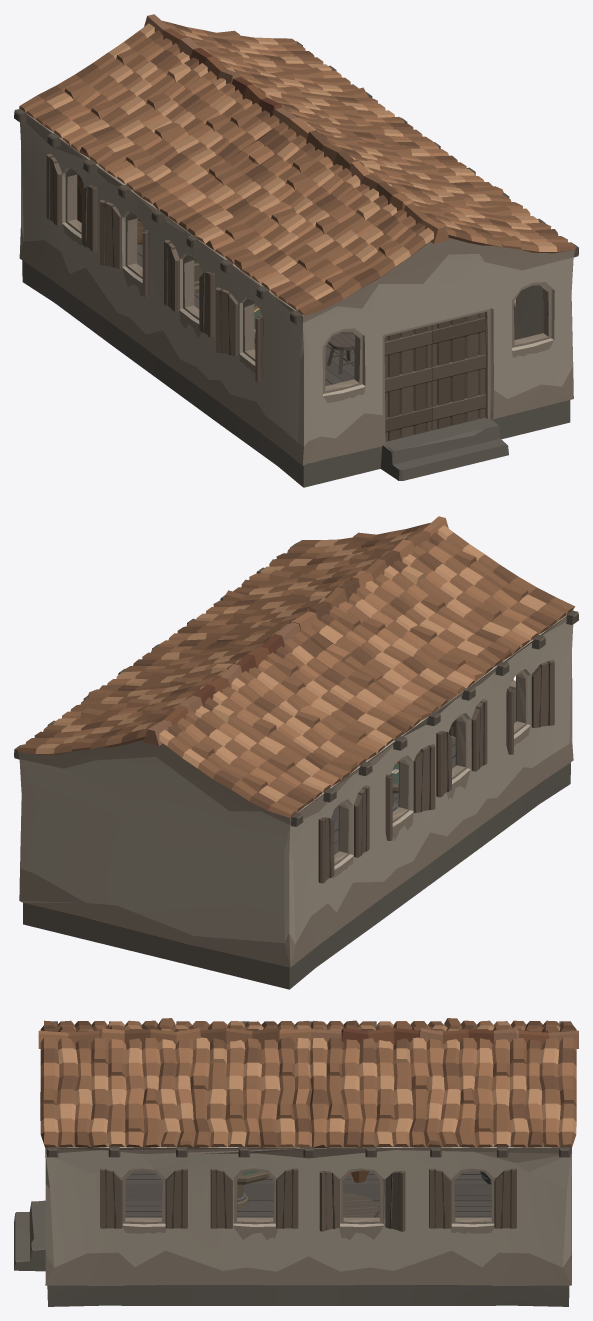
The model's file is Saloon.glb.
The picture shows the model from 3 angles, top to bottom: view 1: azimuth 30°, elevation 25°; view 2: azimuth 150°, elevation 25°; view 3: azimuth 270°, elevation 25°; orthographic projection. The views are drawn at different scales.
Parts seen in each view (by area): view 1: Saloon, SM_Bld_Mexican_01_Door_01, SM_Bld_Mexican_01_Door_02, SM_Prop_Stool_Round_01; view 2: Saloon; view 3: Saloon, SM_Prop_Table_01, SM_Prop_PokerTable_01.
Part boxes in pixels (box(x1,y1,x2,y2)): Saloon: box(14, 14, 578, 487); SM_Bld_Mexican_01_Door_01: box(431, 312, 485, 430); SM_Bld_Mexican_01_Door_02: box(384, 325, 432, 441); SM_Prop_Stool_Round_01: box(326, 334, 354, 374); Saloon: box(14, 516, 578, 989); Saloon: box(14, 1018, 578, 1306); SM_Prop_Table_01: box(343, 1192, 378, 1217); SM_Prop_PokerTable_01: box(237, 1170, 268, 1208).
Bounding box in the file's own units: 6.07 × 4.6 × 10.87.
4 materials, 4 textured.
